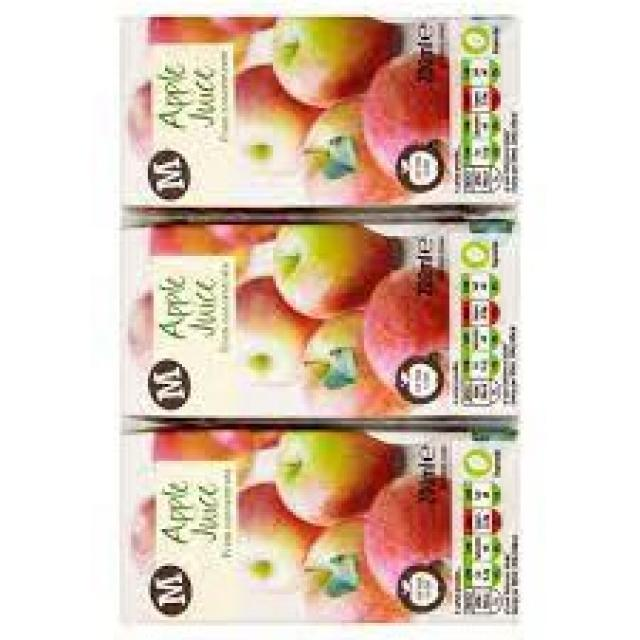non_white_jug: (115, 216, 522, 421), (115, 9, 526, 210), (116, 426, 523, 624)
